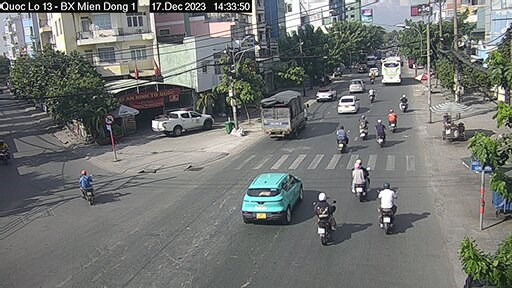car: (243, 167, 306, 227), (149, 108, 215, 137), (380, 55, 403, 87), (336, 94, 358, 114), (315, 86, 335, 101), (345, 81, 364, 95), (366, 55, 379, 65)
motorbike: (75, 167, 107, 207), (317, 196, 336, 241), (347, 158, 366, 200), (376, 183, 392, 232), (358, 112, 375, 139), (390, 110, 404, 135), (335, 126, 347, 151), (378, 116, 384, 148)
truck: (260, 94, 310, 138)
